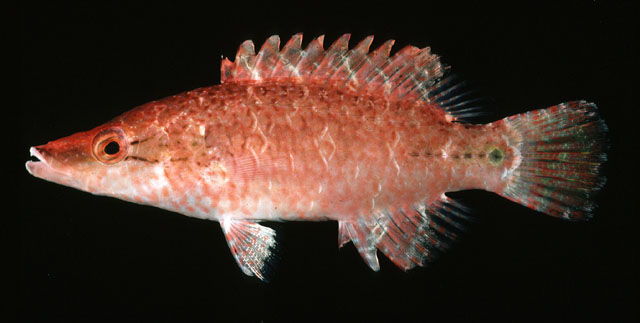fish: (23, 33, 609, 280)
